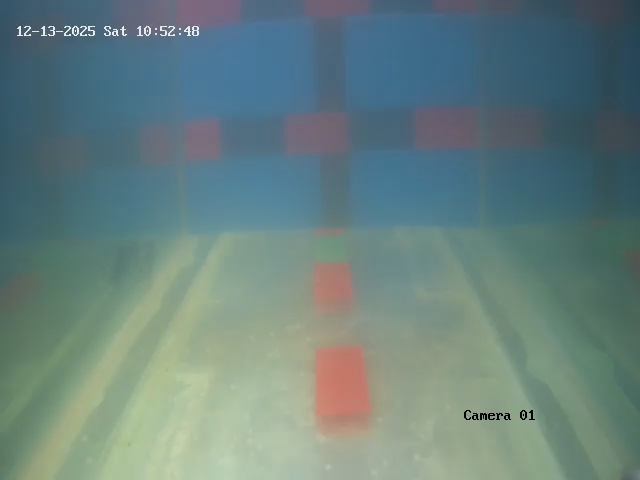fish: (132, 226, 169, 290)
